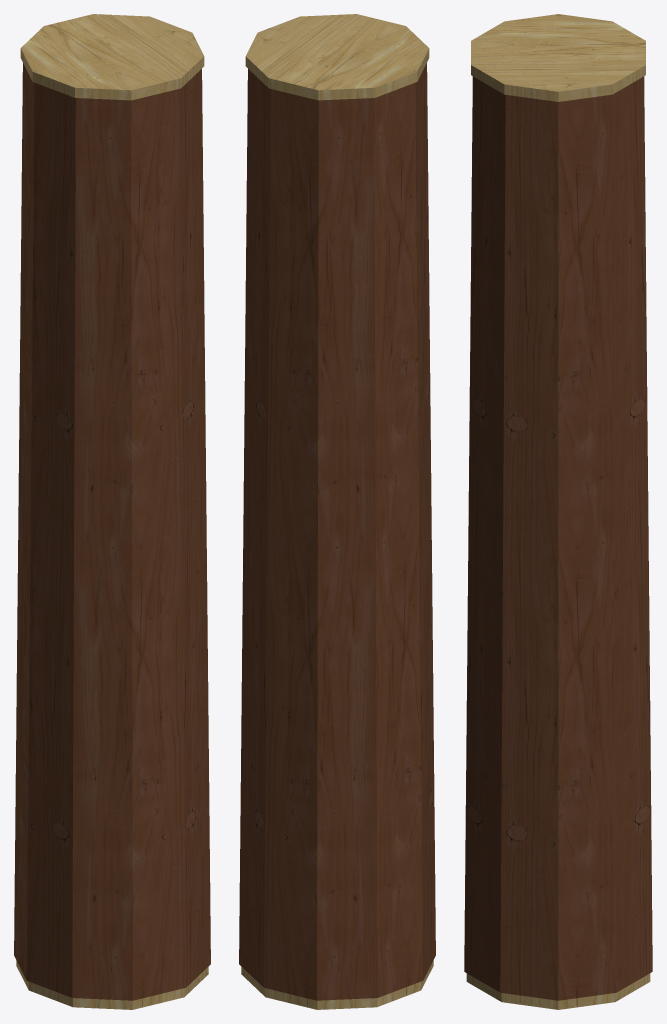
Rendered from log.glb.
3 views of the same model, side by side, from view 1: azimuth 30°, elevation 25°; view 2: azimuth 150°, elevation 25°; view 3: azimuth 270°, elevation 25° (orthographic).
Parts seen in each view (by area): view 1: log; view 2: log; view 3: log.
Boxes of the visible parts, x1,y1,x2,y2 form: log: (14,14,210,1009); log: (239,14,435,1009); log: (464,14,652,1009).
Bounding box in the file's own units: 0.44 × 2.25 × 0.4185.
Materials: 2 (2 with a texture image).
